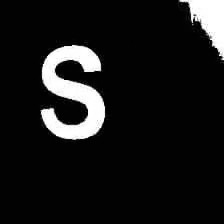LTR_S: (34, 42, 108, 139)
